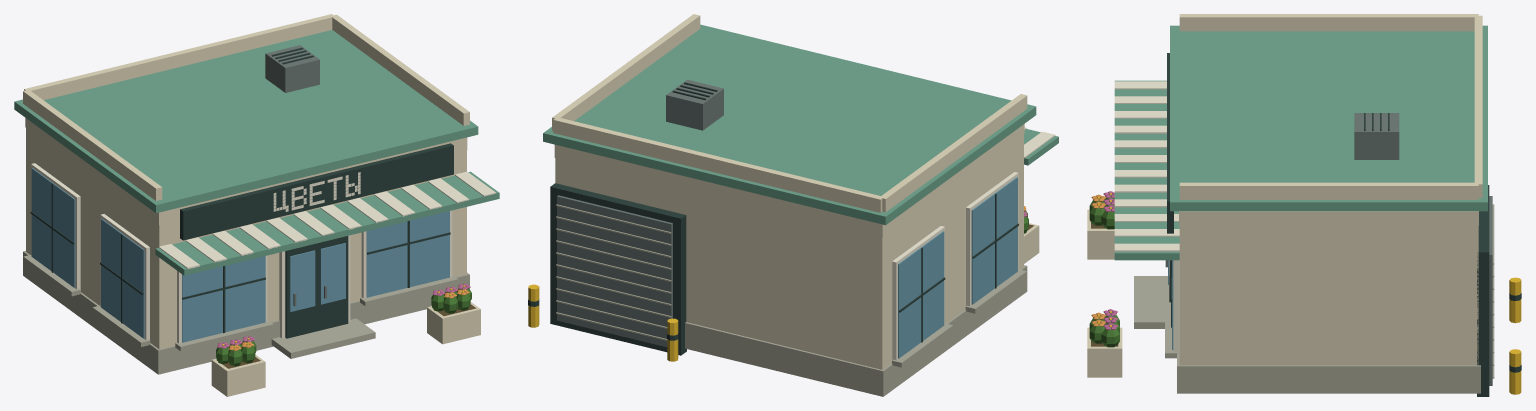
File: FlowerShop.obj
The picture shows the model from 3 angles, left to right: view 1: azimuth 30°, elevation 25°; view 2: azimuth 150°, elevation 25°; view 3: azimuth 270°, elevation 25°; orthographic projection. The views are drawn at different scales.
Parts seen in each view (by area): view 1: FlowerShop; view 2: FlowerShop; view 3: FlowerShop.
Part boxes in pixels (left/top/right/bottom): FlowerShop: left=14, top=14, right=499, bottom=396; FlowerShop: left=528, top=14, right=1058, bottom=396; FlowerShop: left=1087, top=14, right=1521, bottom=396.
Size of the model in its own units: 8.49 by 5.06 by 8.71.
